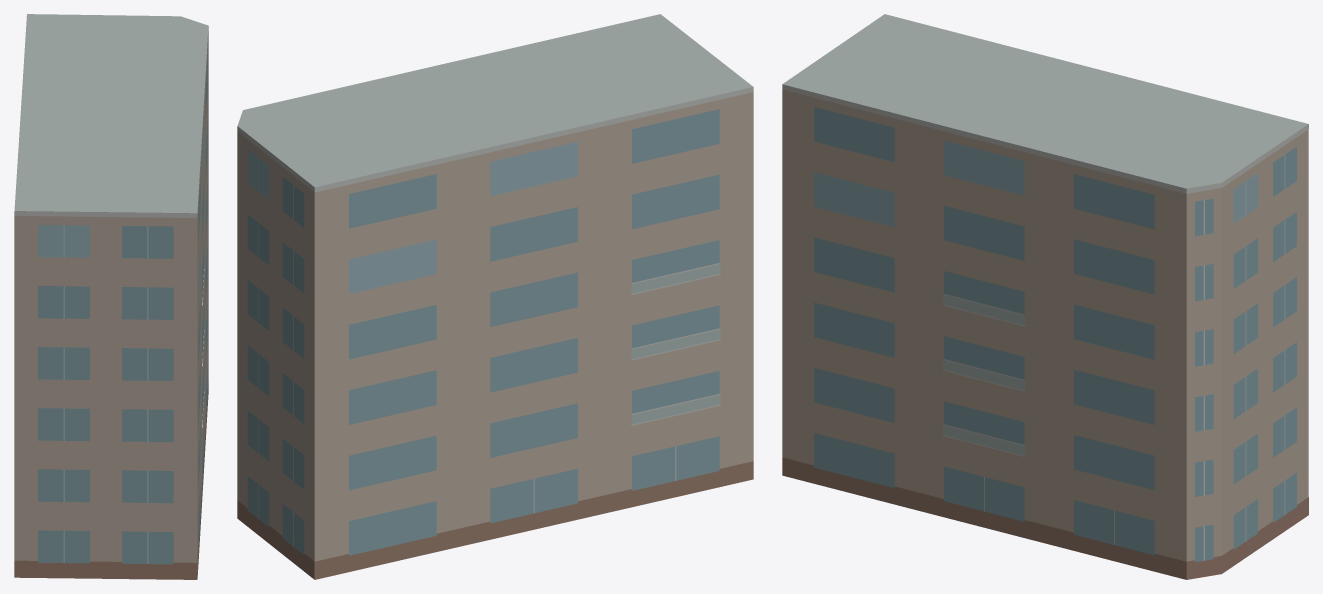
The model's file is survey-upis-32675026.glb.
3 renders of one model, left to right at view 1: azimuth 30°, elevation 25°; view 2: azimuth 150°, elevation 25°; view 3: azimuth 270°, elevation 25°, orthographic. The views are drawn at different scales.
Parts seen in each view (by area): view 1: survey-upis-32675026.tmp; view 2: survey-upis-32675026.tmp; view 3: survey-upis-32675026.tmp.
Boxes of the visible parts, x1,y1,x2,y2 form: survey-upis-32675026.tmp: (14,14,208,579); survey-upis-32675026.tmp: (237,14,753,579); survey-upis-32675026.tmp: (782,14,1308,579).
Size of the model in its own units: 17.63 by 18.4 by 22.45.
